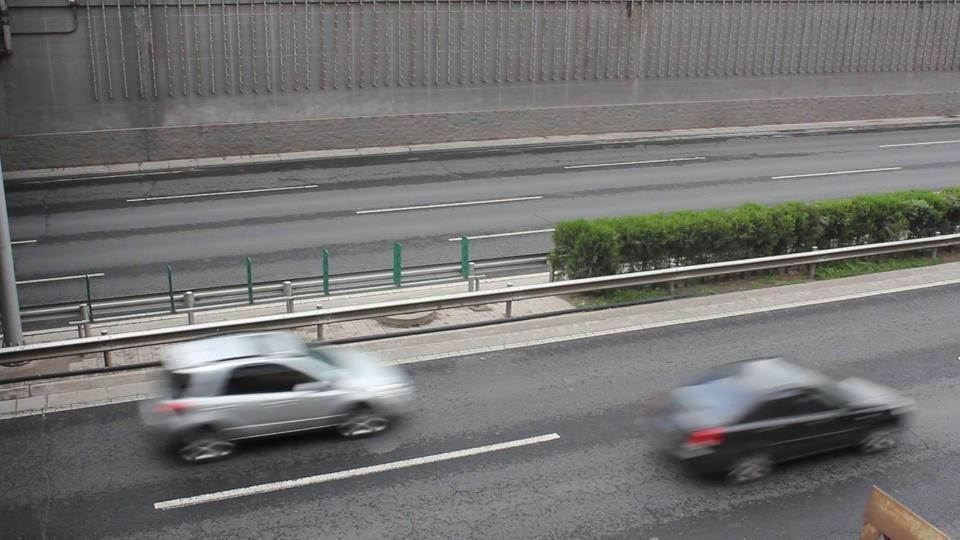car: (139, 330, 419, 463), (643, 357, 919, 485)
